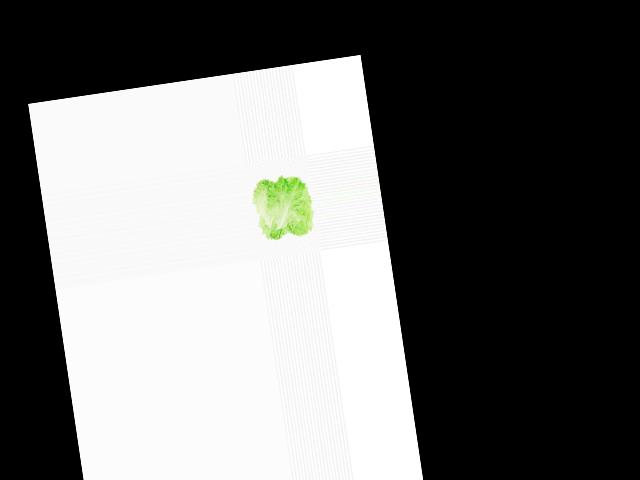lettuce: (247, 167, 319, 247)
